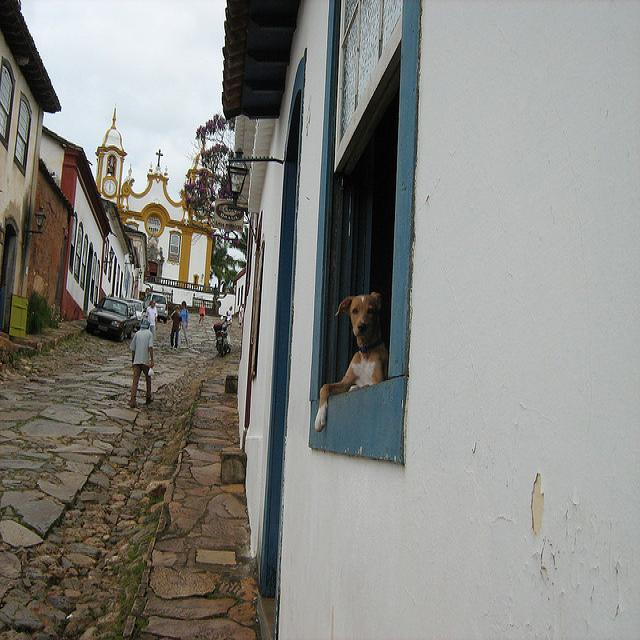motor: (214, 316, 233, 357), (169, 305, 173, 320)
